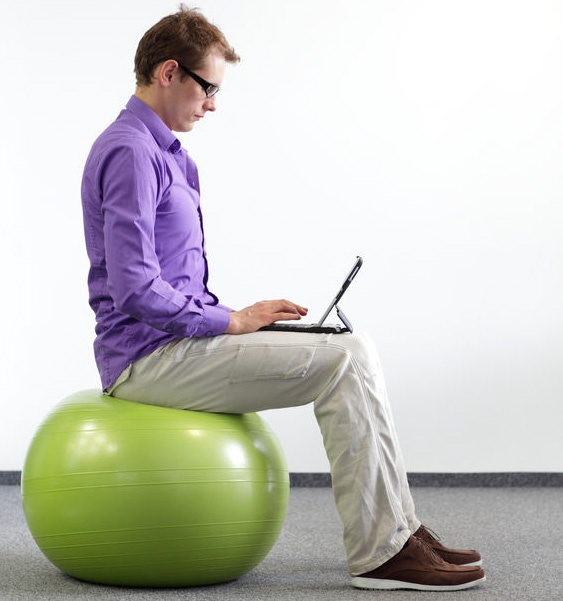yogaball: (14, 381, 296, 598)
